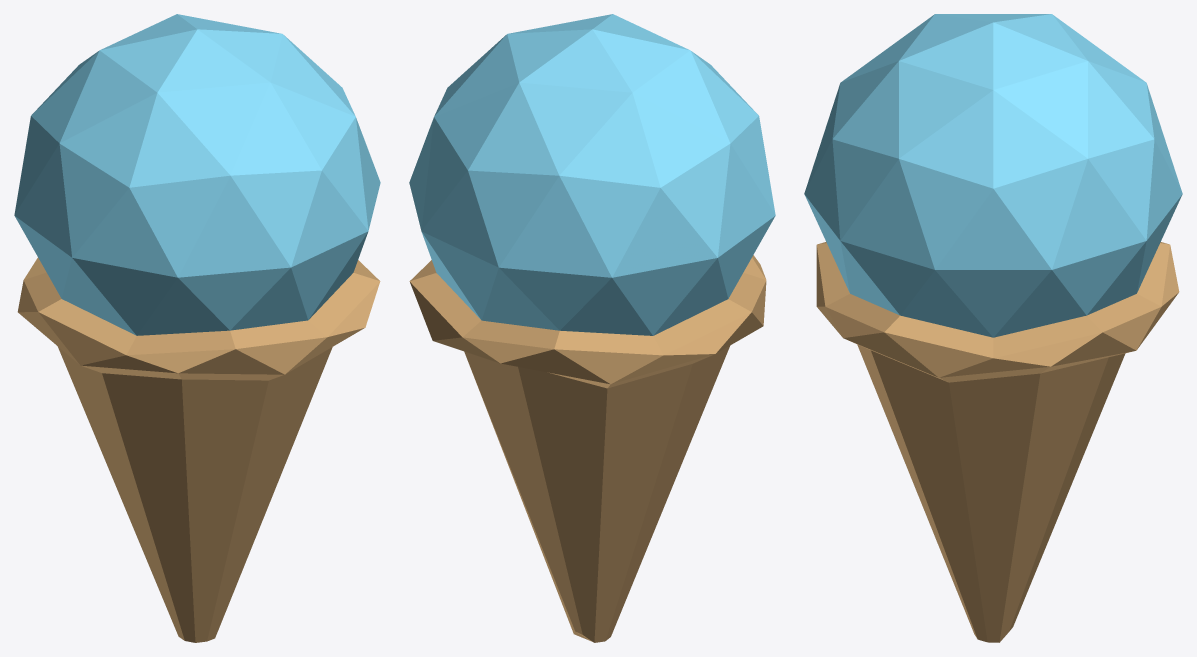
File: ice_soda.fbx
The picture shows the model from 3 angles, left to right: view 1: azimuth 30°, elevation 25°; view 2: azimuth 150°, elevation 25°; view 3: azimuth 270°, elevation 25°; orthographic projection.
Parts seen in each view (by area): view 1: ice_soda; view 2: ice_soda; view 3: ice_soda.
Part boxes in pixels (box(x1,y1,x2,y2)): ice_soda: box(14, 14, 380, 642); ice_soda: box(409, 14, 775, 642); ice_soda: box(804, 14, 1182, 642).
Bounding box in the file's own units: 7.33 × 13.66 × 7.59.
